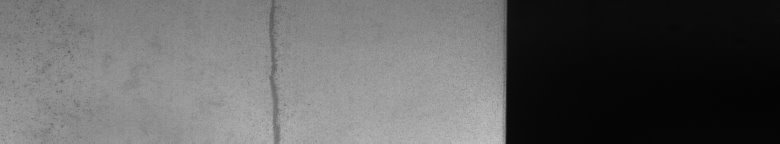hd: (264, 4, 286, 136)
